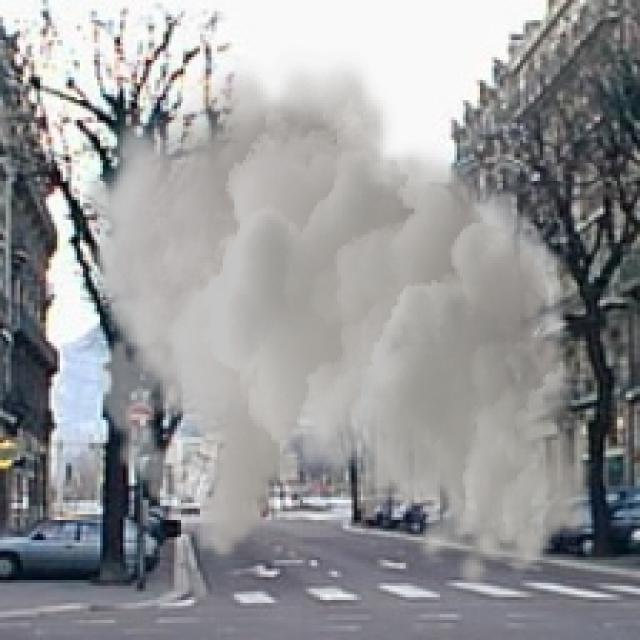Smoke: (80, 46, 594, 594)
